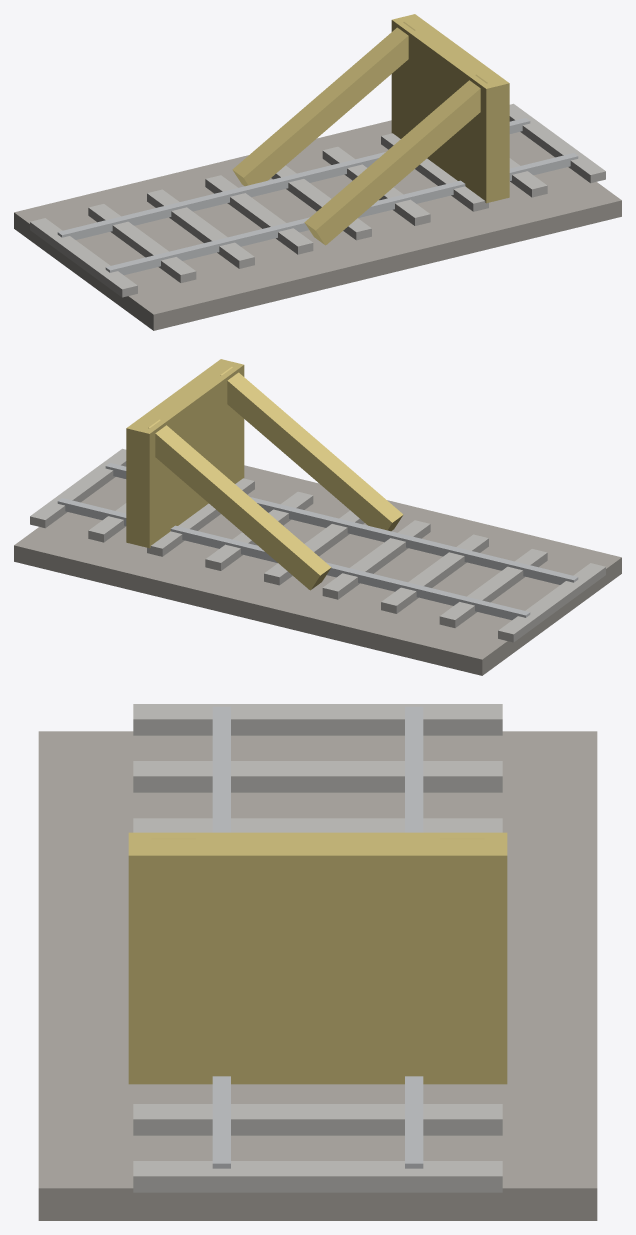
Rendered from 04_tracks_props_4x3-11.glb.
The picture shows the model from 3 angles, top to bottom: view 1: azimuth 30°, elevation 25°; view 2: azimuth 150°, elevation 25°; view 3: azimuth 270°, elevation 25°; orthographic projection. The views are drawn at different scales.
Size of the model in its own units: 6.2 by 1.71 by 3.1.
